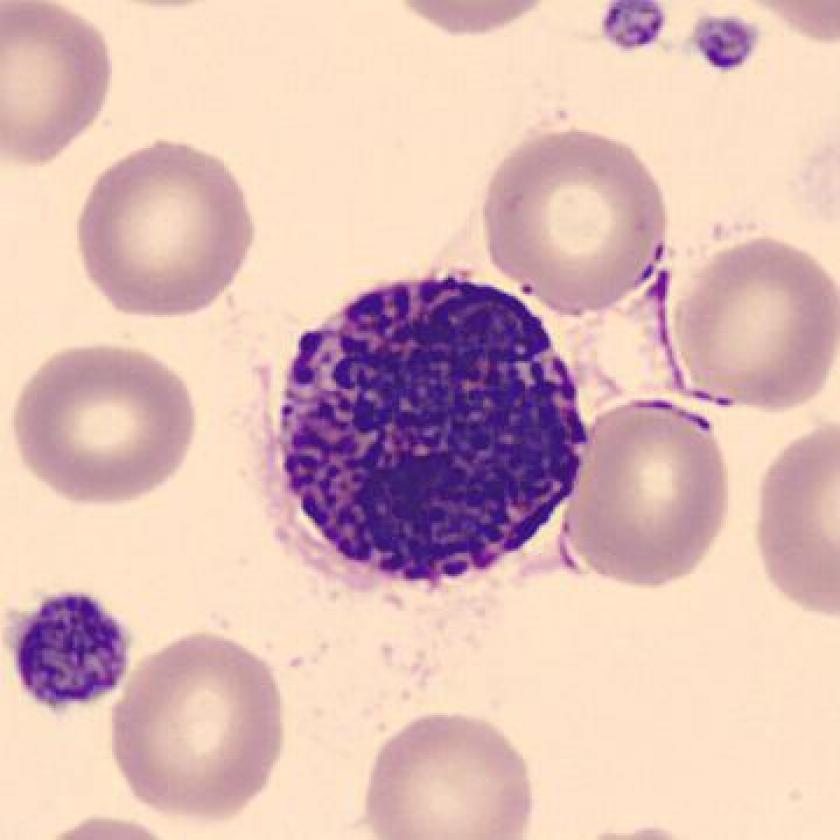basophil: (272, 274, 587, 596)
